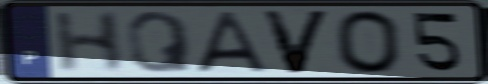5: (410, 10, 464, 74)
A: (194, 9, 269, 75)
H: (51, 10, 125, 75)
O: (332, 8, 406, 76)
Q: (124, 9, 196, 75)
V: (257, 8, 335, 76)
